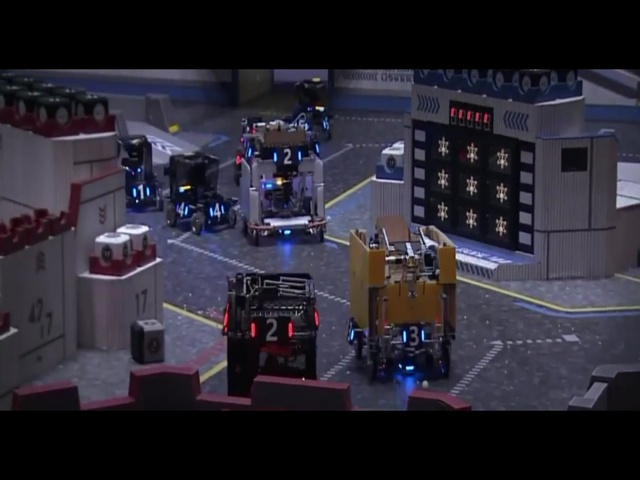bluePlate: (270, 142, 306, 167), (398, 320, 430, 348), (127, 175, 157, 204), (342, 312, 360, 346), (318, 104, 335, 139), (204, 197, 227, 221), (172, 199, 195, 219), (294, 113, 309, 131)
redPlate: (244, 313, 298, 344)
